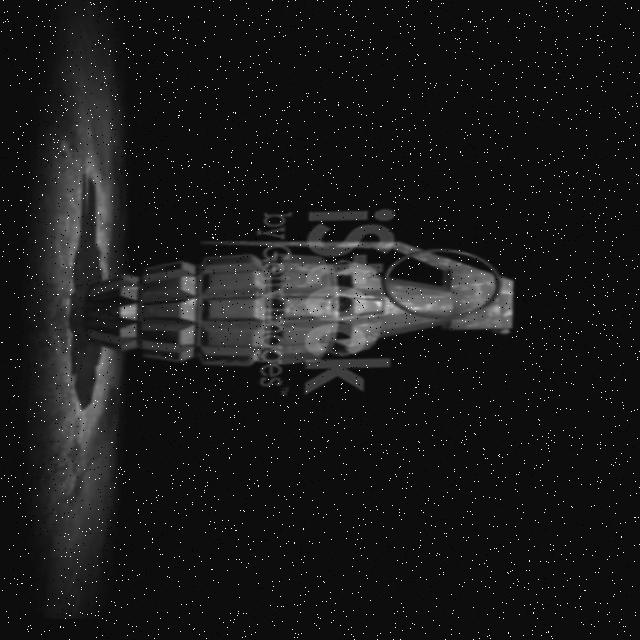grenade: (58, 206, 539, 408)
